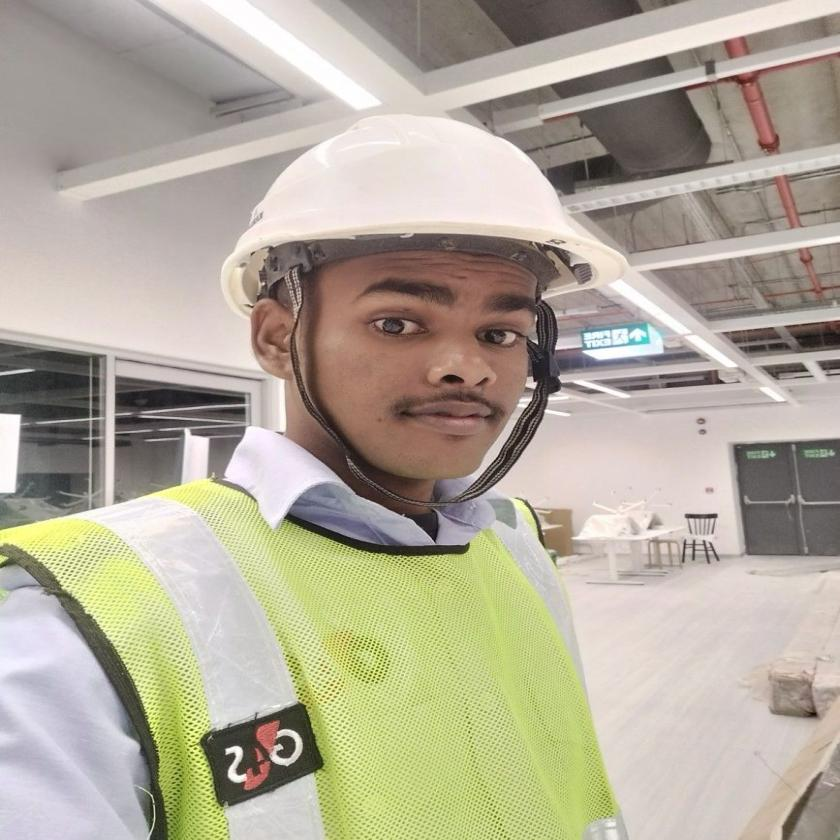Con_casco: (231, 99, 646, 520)
